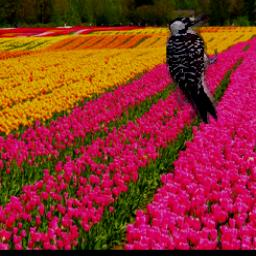Woodpecker: (167, 14, 218, 124)
